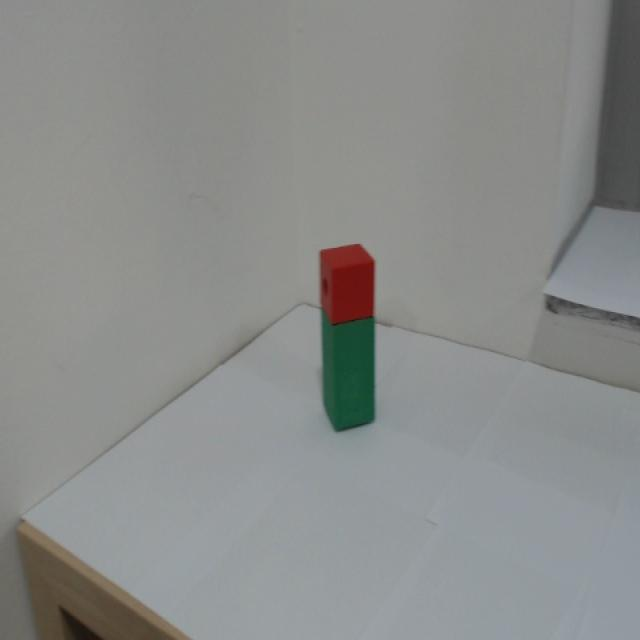cube: (310, 238, 388, 320)
